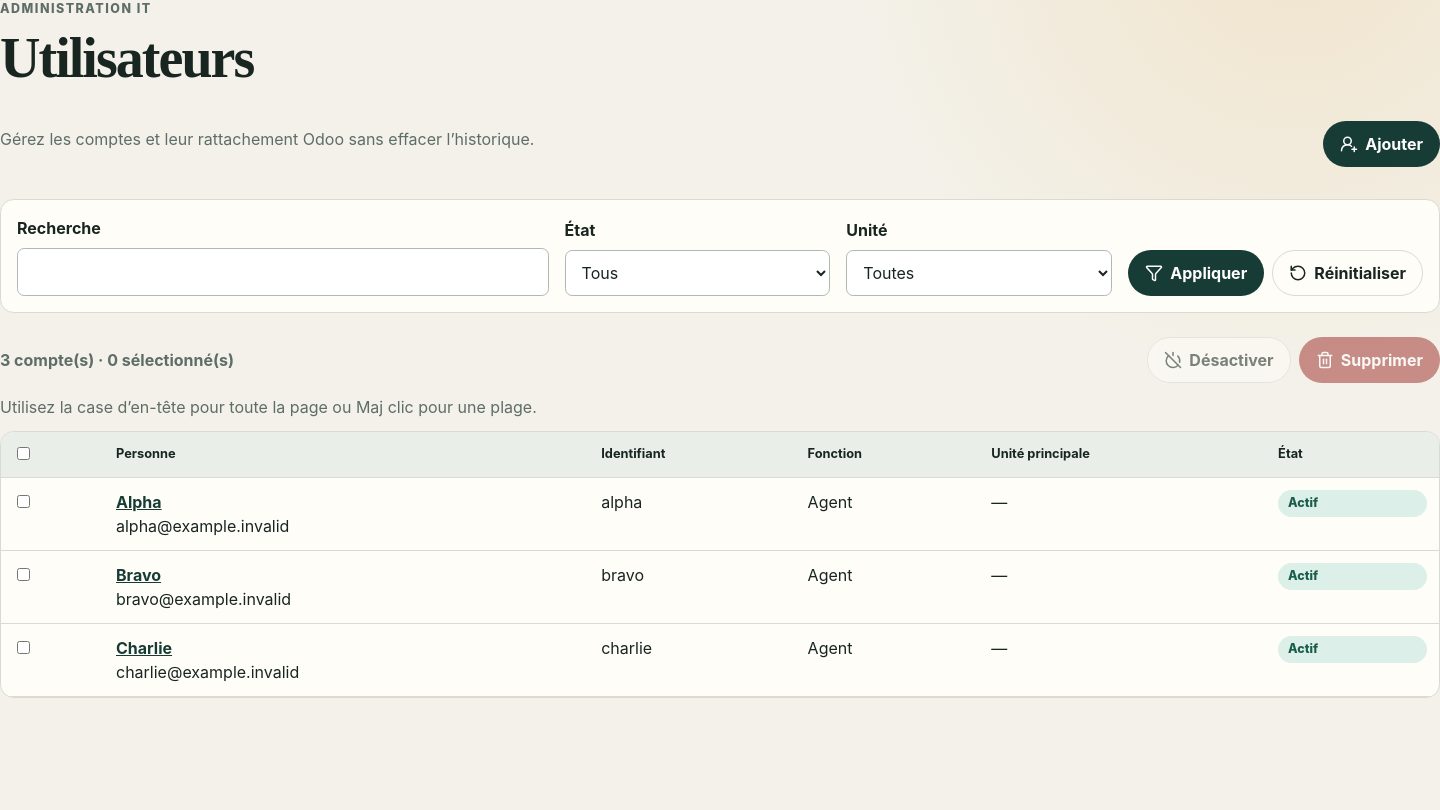
affiche automatiquement les comptes inactifs après une désactivation
Check: the text "Alpha" is shown, box [116, 492, 162, 512]
What coordinates should you click on to do the following:
click the checkbox named "Sélectionner Alpha"
I would click on:
 (24, 501)
Its box is [17, 495, 30, 508].
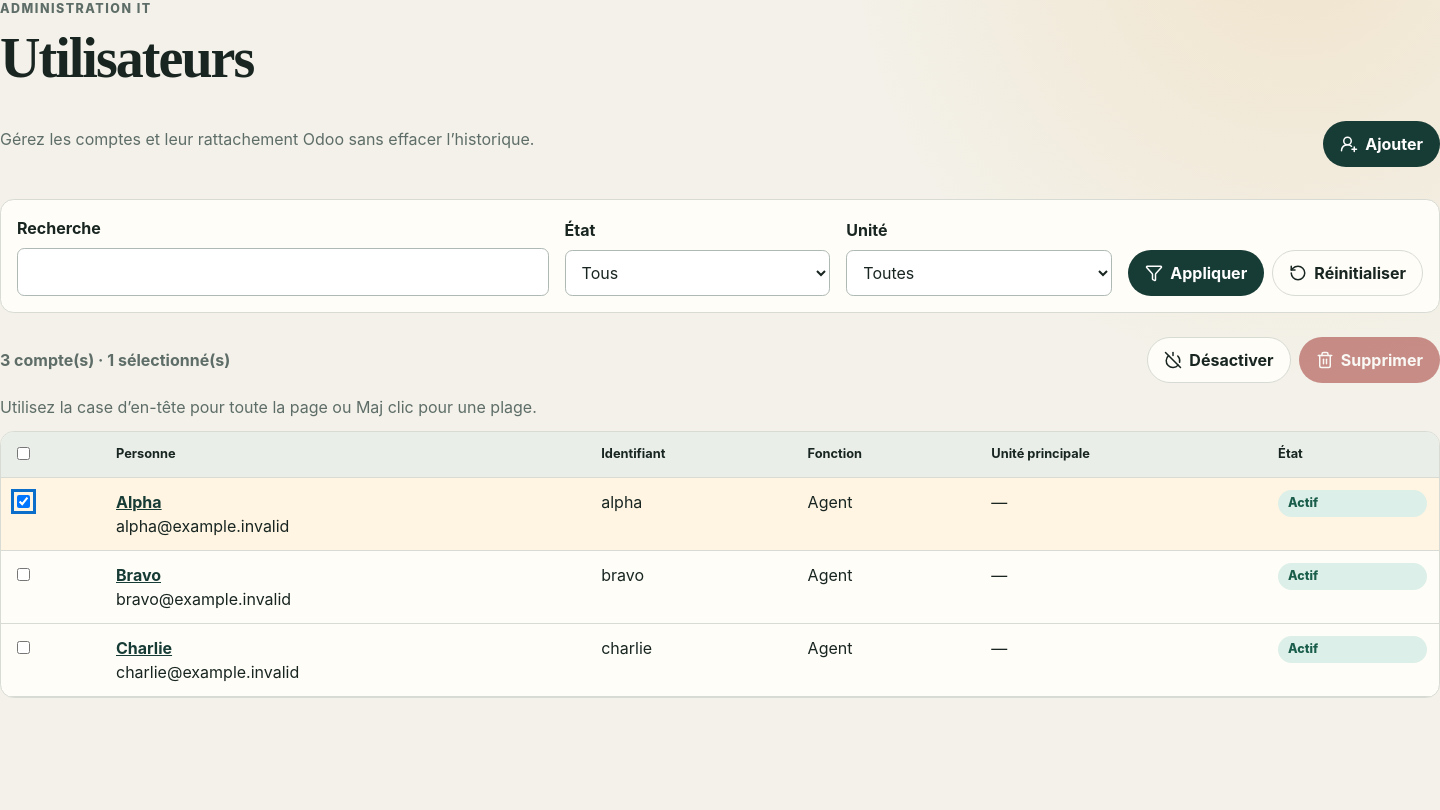
What coordinates should you click on to do the following:
click the button "Désactiver"
I would click on:
 (1219, 360)
Its box is [1147, 337, 1291, 382].
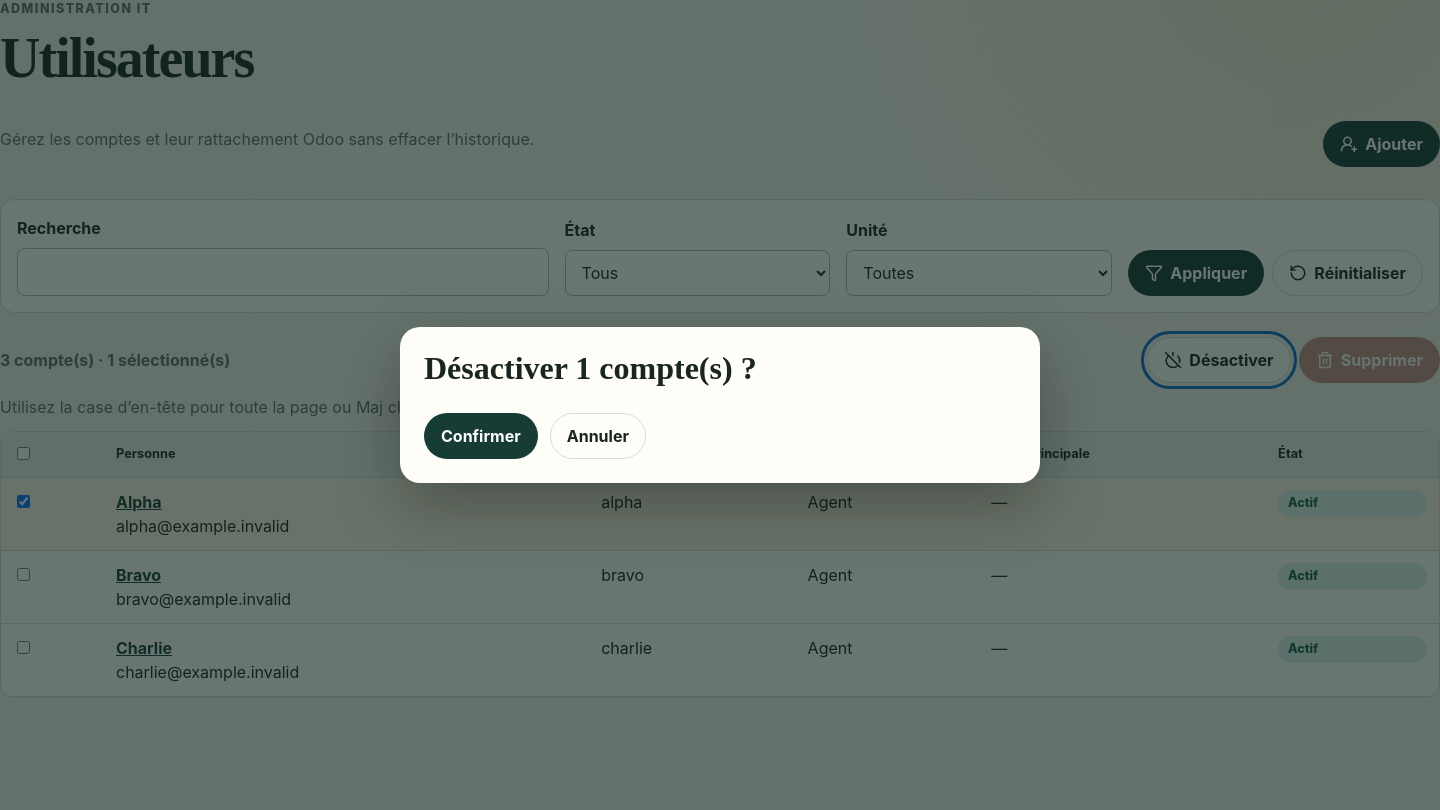
What coordinates should you click on to do the following:
click the button "Confirmer"
I would click on:
 (481, 436)
Its box is [424, 413, 538, 459].
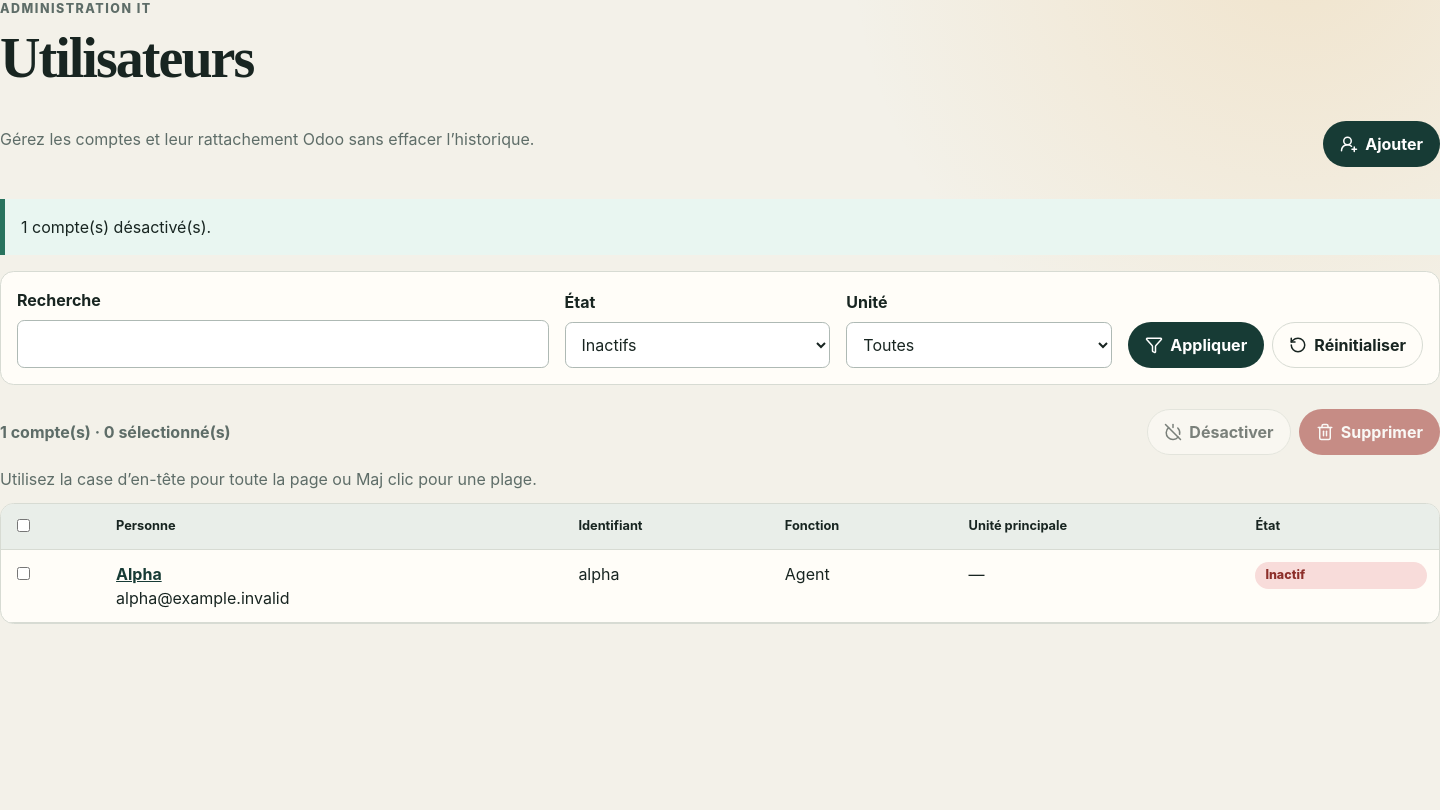
Check: the text "Alpha" is shown, box [116, 564, 162, 584]
Check: the dropdown labelled "État" shows "Inactifs", box [564, 322, 830, 368]
Check: the text "Inactif" is shown, box [1256, 562, 1427, 589]
